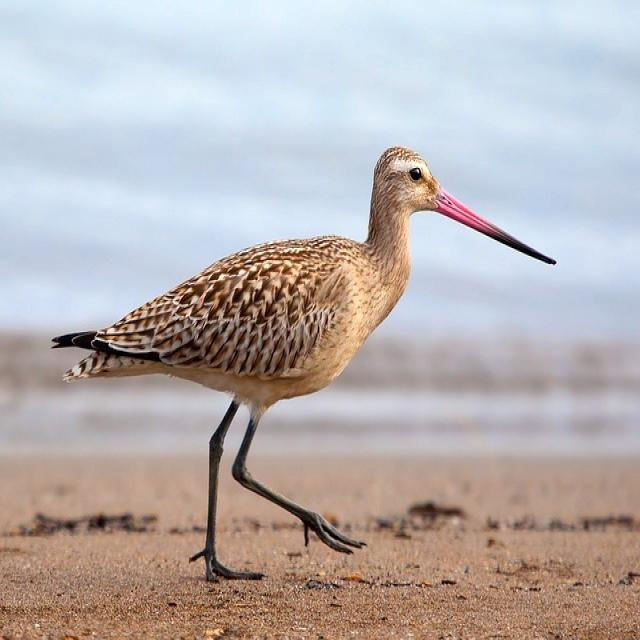Sandpiper: (54, 138, 568, 582)
